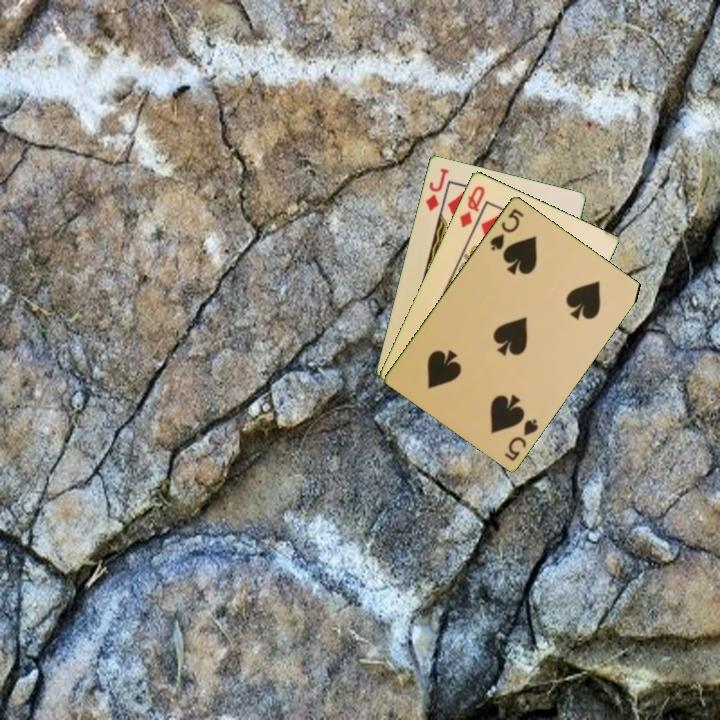5s: (500, 415, 541, 463), (486, 205, 526, 254)
Jd: (422, 164, 451, 214)
Qd: (456, 182, 488, 230)
